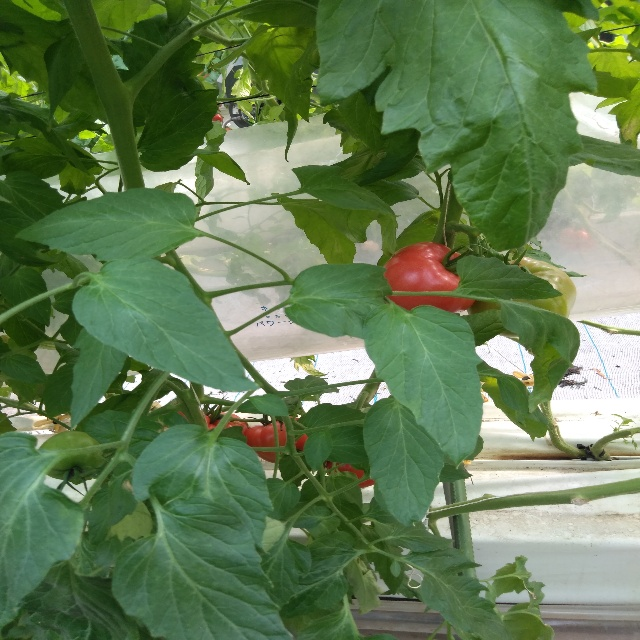b_fully_ripened: (381, 241, 476, 313), (244, 417, 308, 464)
b_green: (467, 257, 578, 337), (38, 430, 114, 481)
